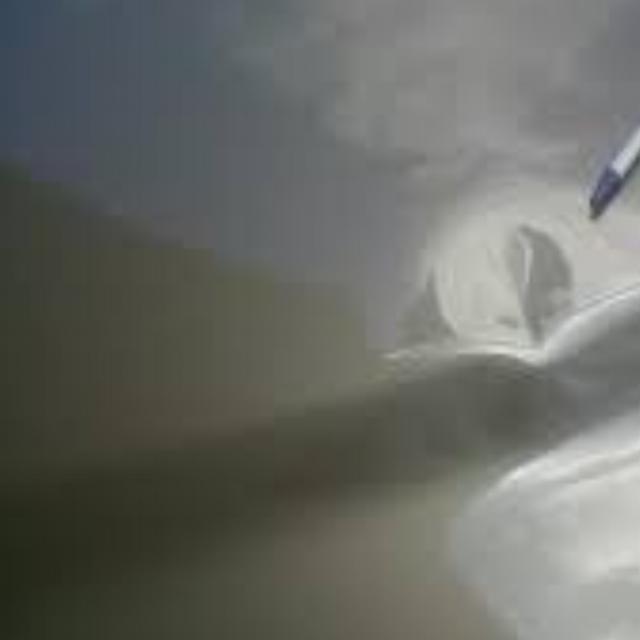dents: (418, 220, 609, 356)
